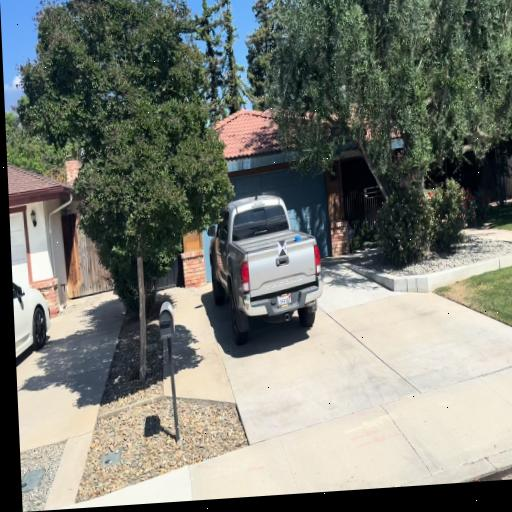target1: (278, 241, 287, 255)
